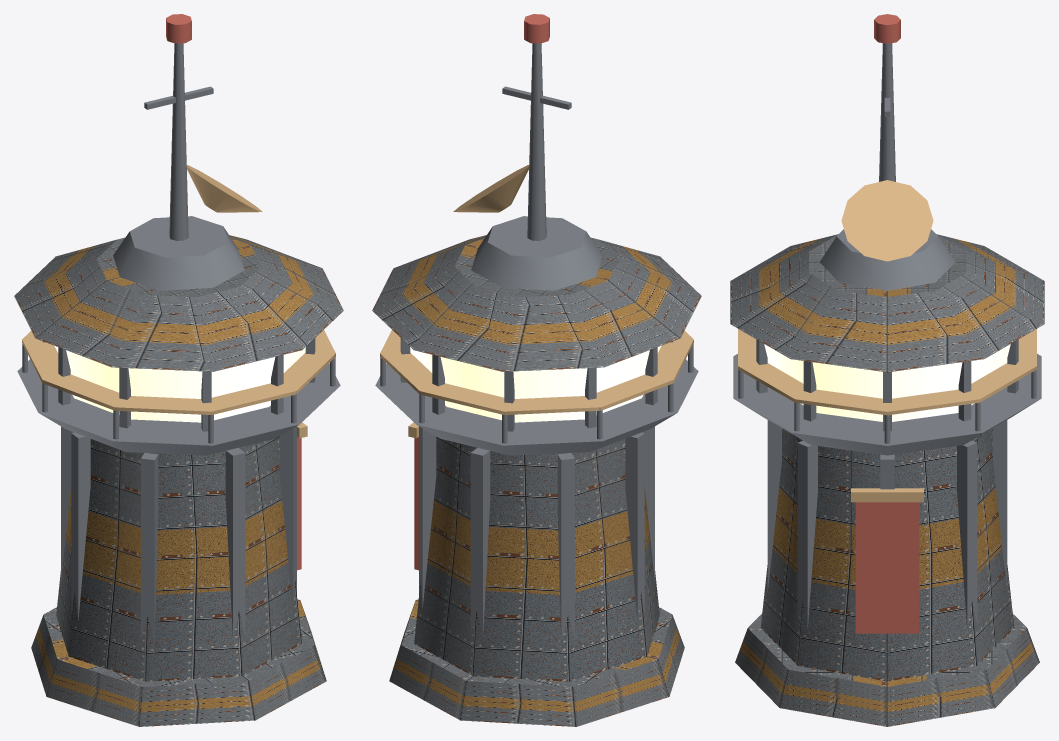
Rendered from control_tower.glb.
3 views of the same model, side by side, from view 1: azimuth 30°, elevation 25°; view 2: azimuth 150°, elevation 25°; view 3: azimuth 270°, elevation 25° (orthographic).
Parts seen in each view (by area): view 1: control_tower; view 2: control_tower; view 3: control_tower.
Part boxes in pixels (x1=…): control_tower: x1=14, y1=14, x2=343, y2=726; control_tower: x1=372, y1=14, x2=701, y2=726; control_tower: x1=730, y1=14, x2=1044, y2=726.
Size of the model in its own units: 10.4 by 22.33 by 9.89.
5 materials, 1 textured.
